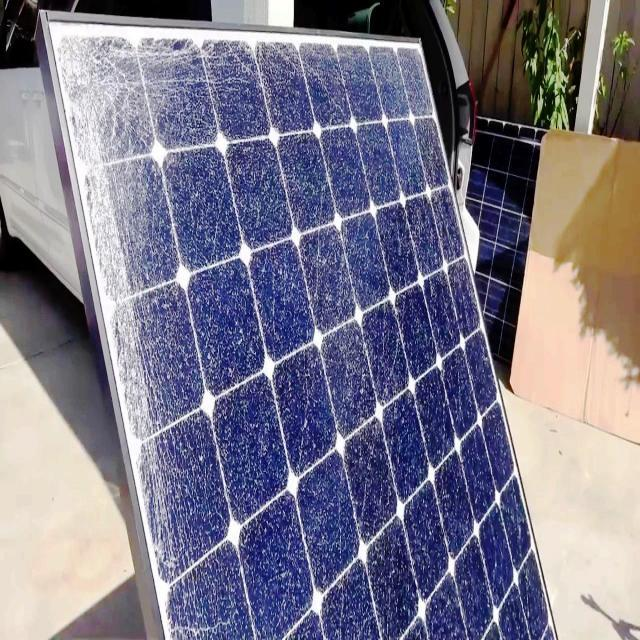faulty: (48, 14, 558, 638)
